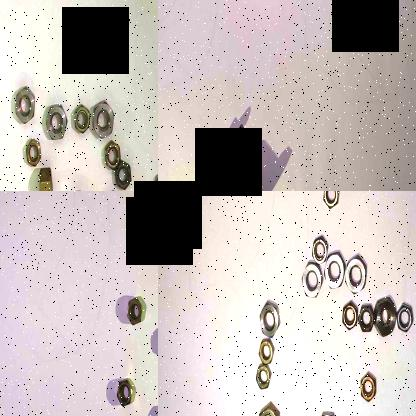Bolts: (217, 114, 245, 172), (242, 158, 270, 191)
NUTS: (90, 100, 119, 143), (373, 296, 401, 338), (44, 102, 72, 142), (344, 254, 370, 294), (14, 86, 38, 127), (300, 259, 324, 300), (258, 297, 280, 341), (355, 298, 379, 336), (71, 100, 95, 136), (323, 252, 346, 289), (355, 372, 379, 404), (395, 301, 416, 335), (114, 373, 134, 408), (113, 157, 133, 191), (24, 138, 46, 168), (104, 140, 126, 170), (254, 338, 276, 368), (126, 292, 144, 328), (307, 237, 329, 266), (340, 298, 360, 328), (254, 360, 272, 390), (37, 165, 57, 191), (320, 191, 342, 211), (256, 402, 282, 416), (314, 407, 339, 416)
